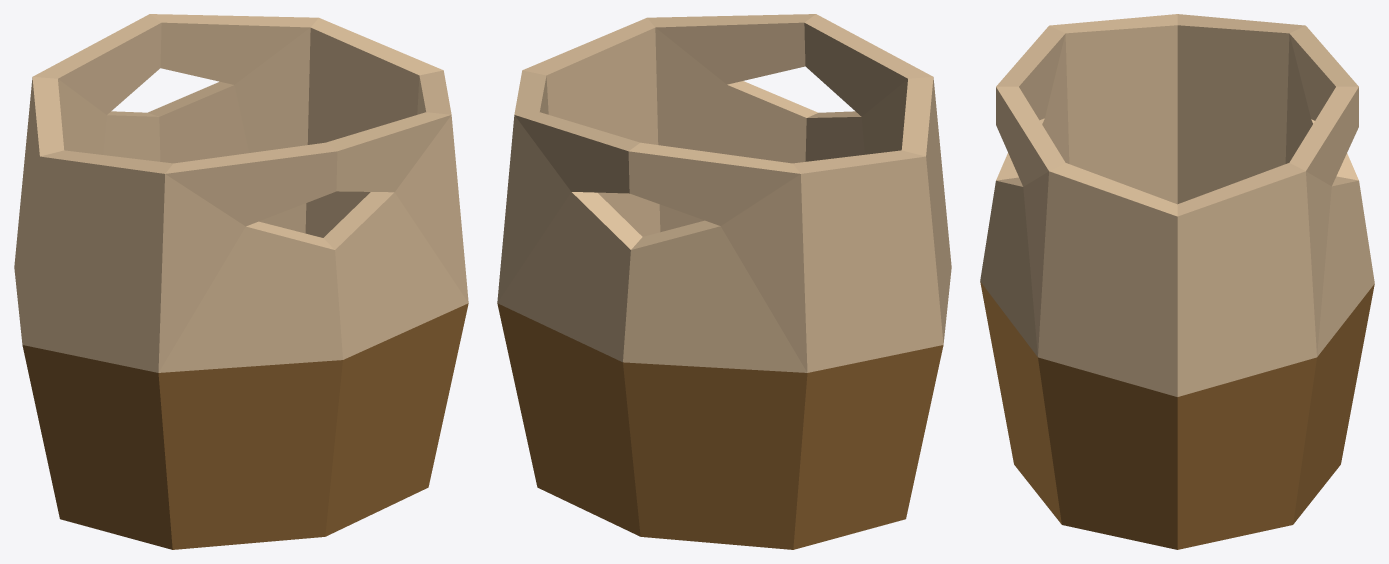
File: furniture-bag-storage-small.glb
3 views of the same model, side by side, from view 1: azimuth 30°, elevation 25°; view 2: azimuth 150°, elevation 25°; view 3: azimuth 270°, elevation 25° (orthographic). The views are drawn at different scales.
Parts seen in each view (by area): view 1: bag-storage-small; view 2: bag-storage-small; view 3: bag-storage-small.
Part boxes in pixels (box(x1,y1,x2,y2)): bag-storage-small: box(14, 14, 468, 549); bag-storage-small: box(497, 14, 951, 549); bag-storage-small: box(980, 14, 1374, 549).
Size of the model in its own units: 0.5121 by 0.4377 by 0.4131.
